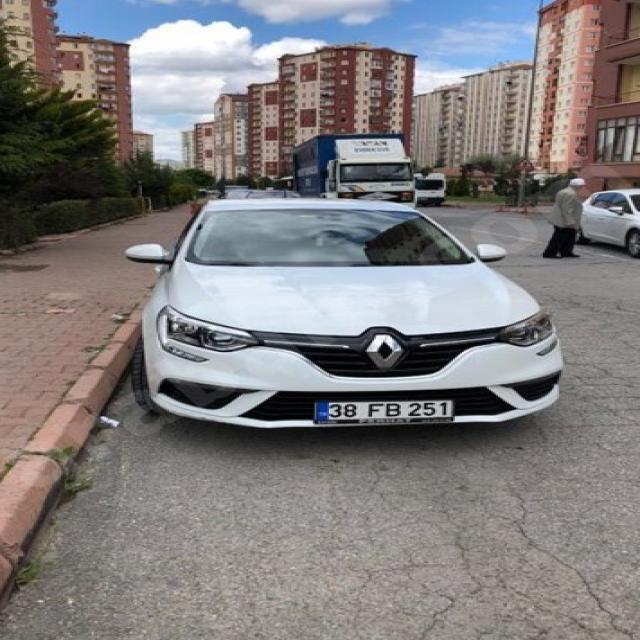license_plate: (313, 399, 455, 420)
